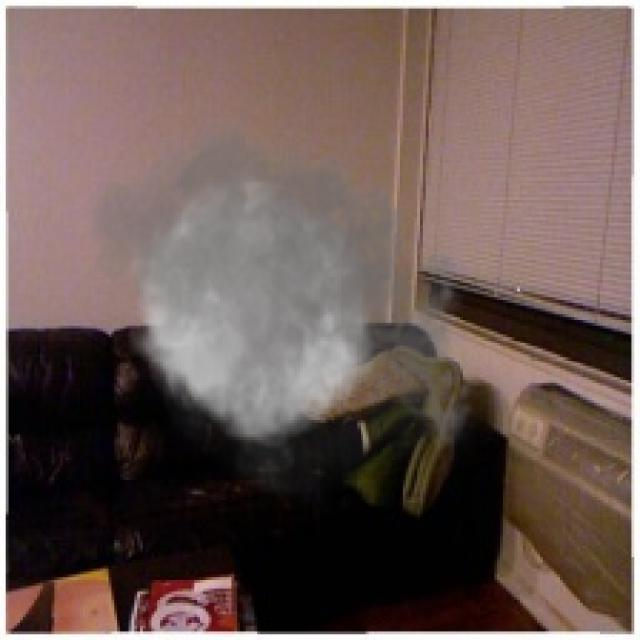Smoke: (71, 100, 486, 517)
